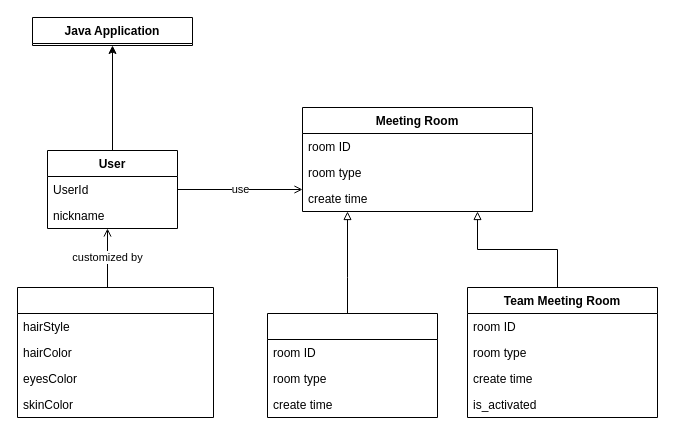
The diagram is 675 pixels wide and 438 high, and some of its shapes have lost their labels. Each missing label, with the box of its shape:
Character Customization: (16, 286, 214, 418)
Instant Meeting Room: (266, 312, 438, 418)
